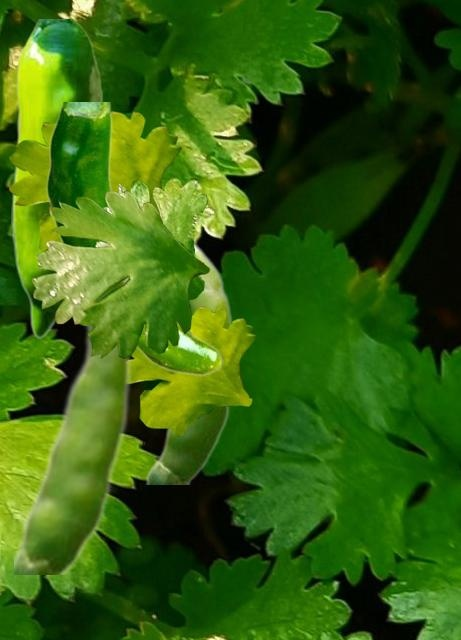green_chili: (46, 102, 222, 375), (14, 241, 132, 573), (11, 19, 105, 337), (143, 239, 235, 483)
